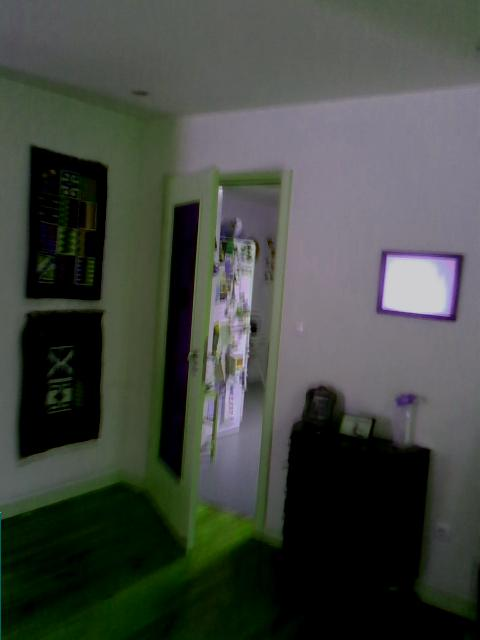semi_door: (140, 161, 294, 560)
